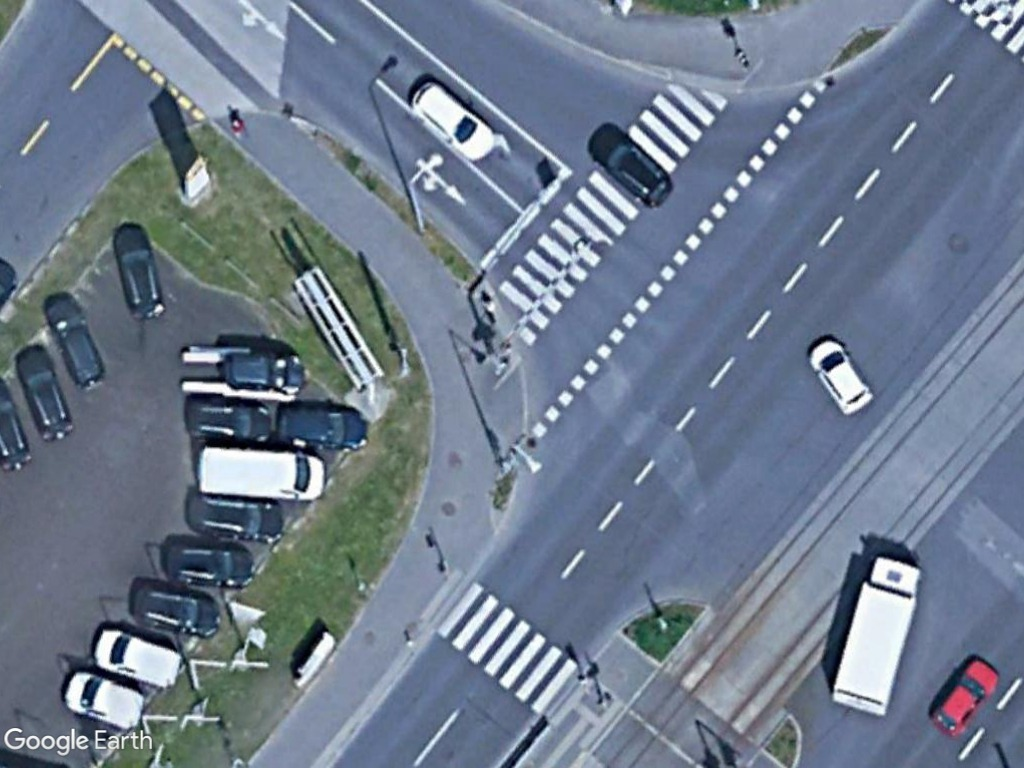car: (407, 78, 502, 162), (586, 128, 677, 209), (922, 654, 1004, 736), (181, 489, 292, 547), (803, 332, 879, 416), (14, 344, 74, 448), (46, 296, 107, 392), (111, 221, 168, 323), (158, 536, 258, 592), (130, 582, 224, 641), (275, 401, 369, 458), (183, 397, 273, 450)
truck: (825, 552, 923, 718)
van: (193, 439, 327, 502), (86, 626, 184, 689), (63, 669, 147, 731)
